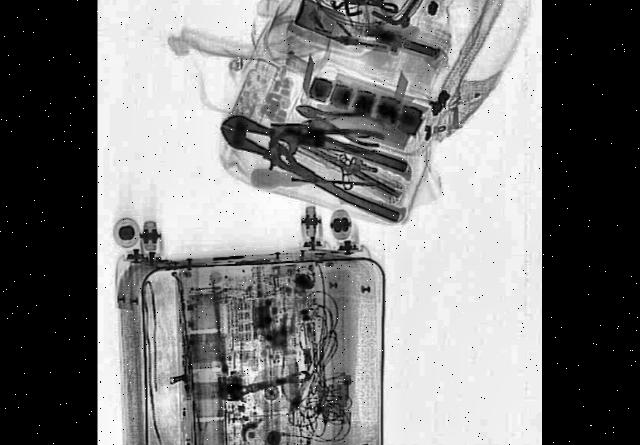Pliers: (216, 92, 408, 225), (270, 108, 383, 175), (296, 88, 386, 152)
